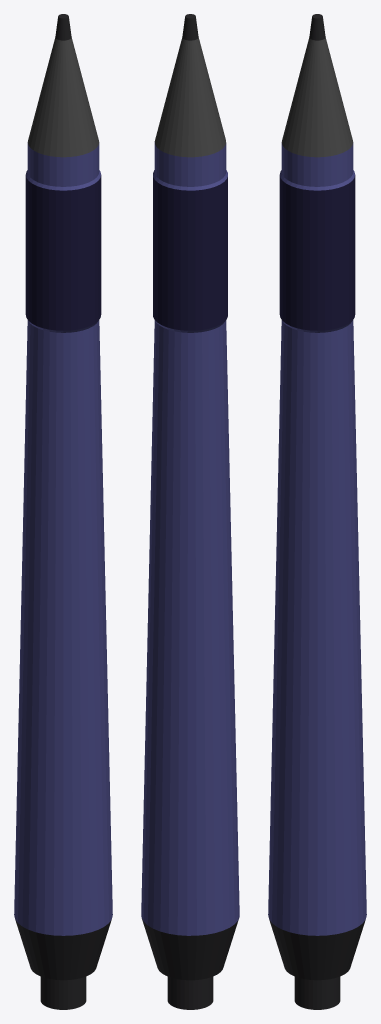
Rendered from pencil4.fbx.
The picture shows the model from 3 angles, left to right: view 1: azimuth 90°, elevation 25°; view 2: azimuth 210°, elevation 25°; view 3: azimuth 270°, elevation 25°; orthographic projection.
Visible parts, largest first — view 1: Цилиндр; view 2: Цилиндр; view 3: Цилиндр.
Part boxes in pixels (bbox=[...]): Цилиндр: bbox=[14, 14, 112, 1009]; Цилиндр: bbox=[141, 14, 239, 1009]; Цилиндр: bbox=[268, 14, 366, 1009].
Bounding box in the file's own units: 2.54 × 27.97 × 2.54.
